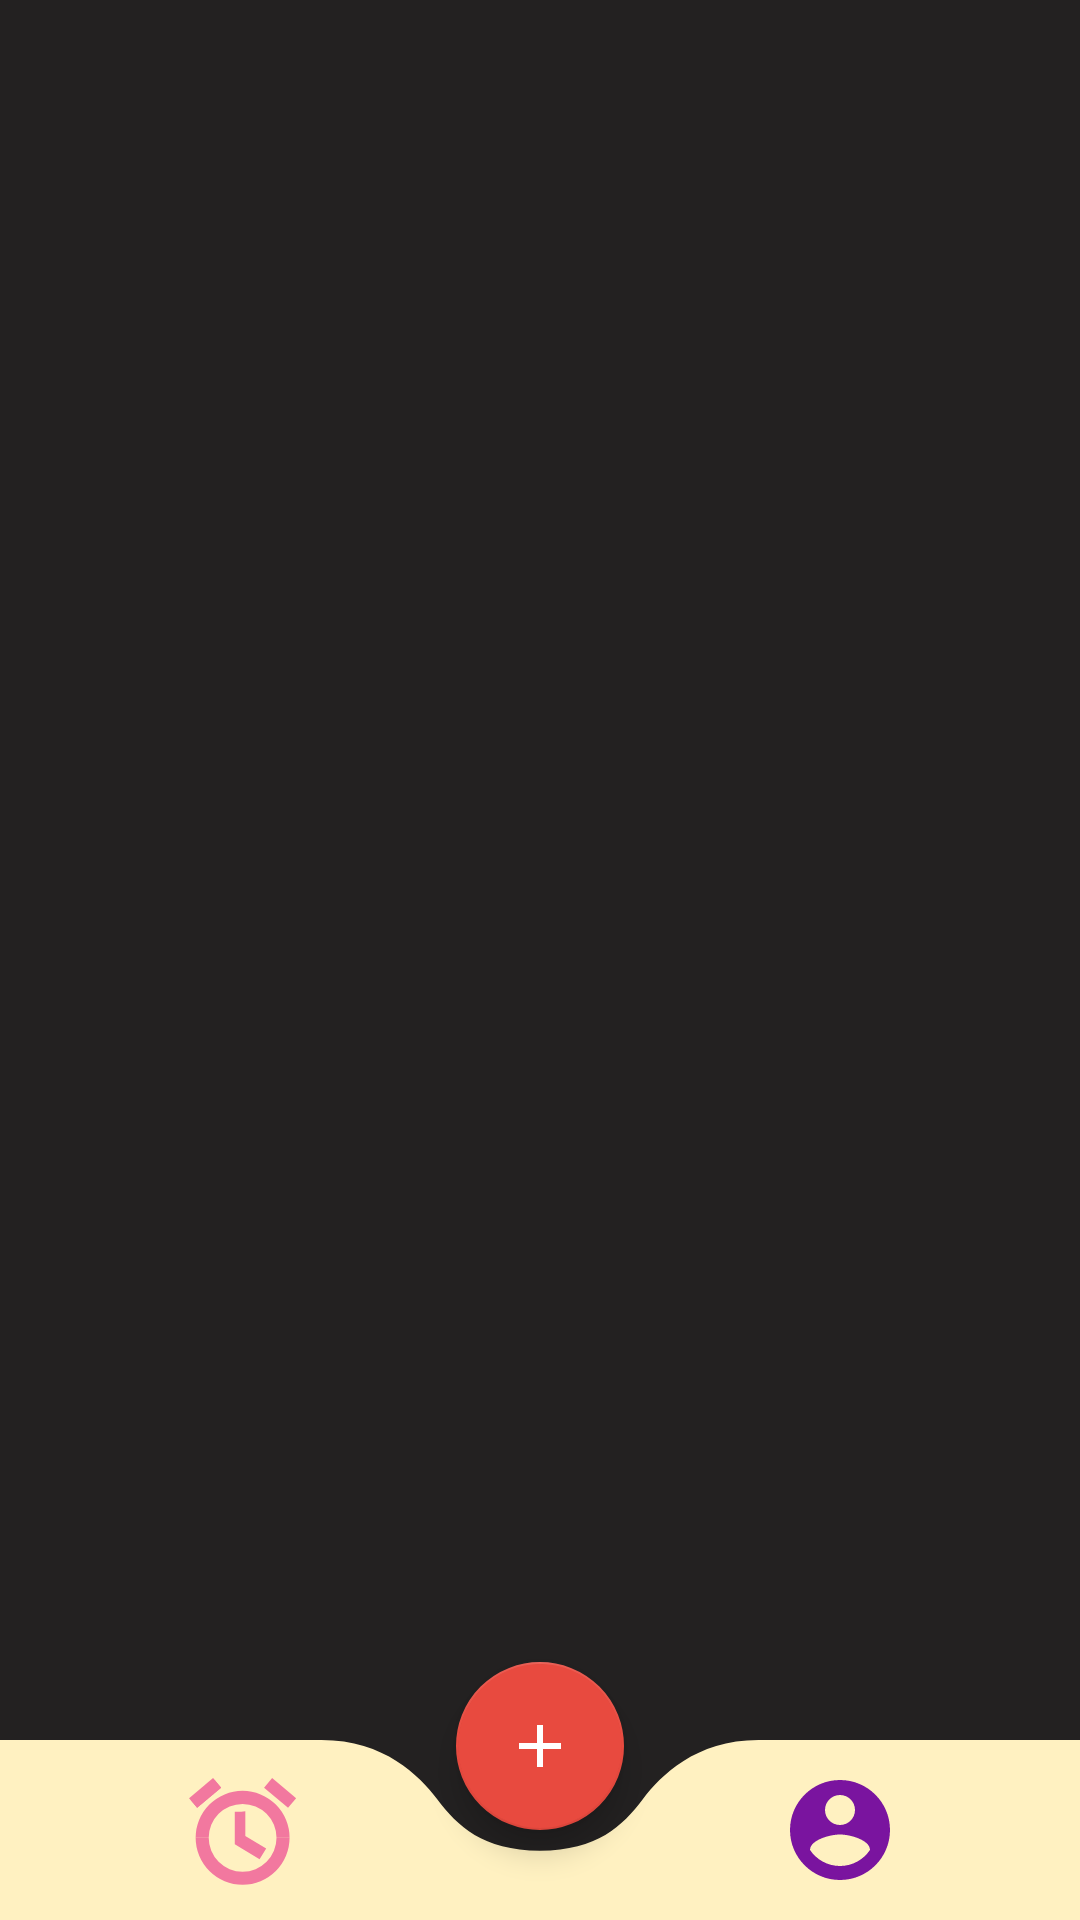

Point at icon controls on the screen. Image size 1080 x 1920, points as (x=x, y=y).
account circle: (x=840, y=1830)
alarmimg: (x=242, y=1831)
登録: (x=540, y=1746)
